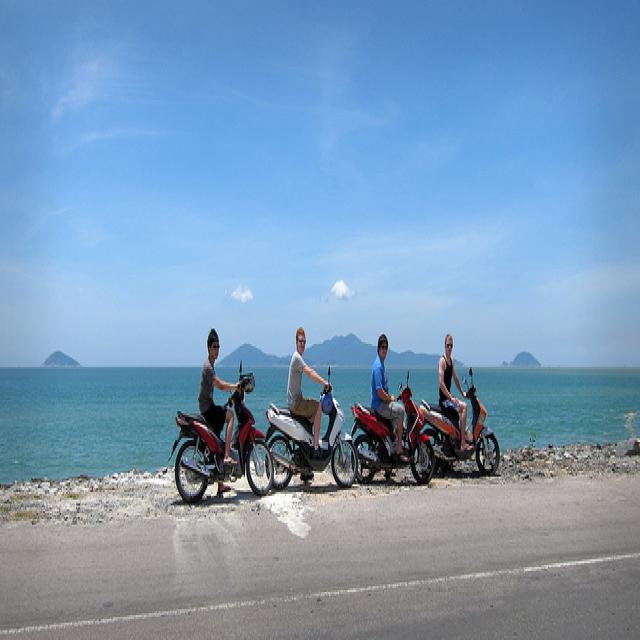motor: (167, 360, 273, 505), (264, 383, 357, 492), (351, 371, 436, 485), (419, 368, 500, 476)
